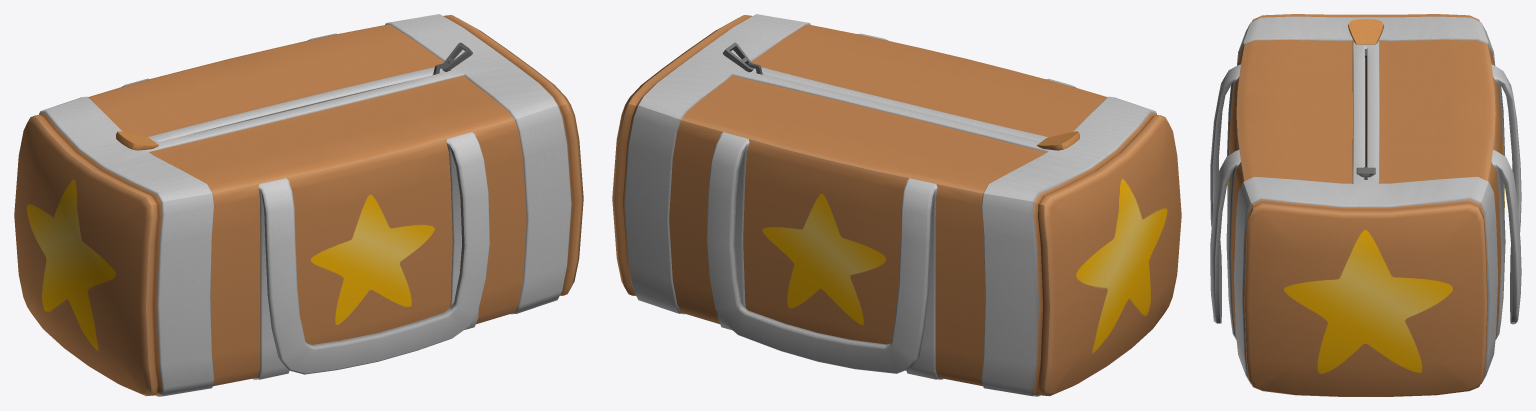
Rendered from gym bag.glb.
3 renders of one model, left to right at view 1: azimuth 30°, elevation 25°; view 2: azimuth 150°, elevation 25°; view 3: azimuth 270°, elevation 25°, orthographic. The views are drawn at different scales.
Parts seen in each view (by area): view 1: GymBag; view 2: GymBag; view 3: GymBag.
Boxes of the visible parts, box(x1,y1,x2,y2) form: GymBag: box(14, 14, 583, 396); GymBag: box(612, 14, 1181, 396); GymBag: box(1210, 14, 1521, 396).
Bounding box in the file's own units: 0.8282 × 0.3797 × 0.5109.
1 material, 1 textured.
